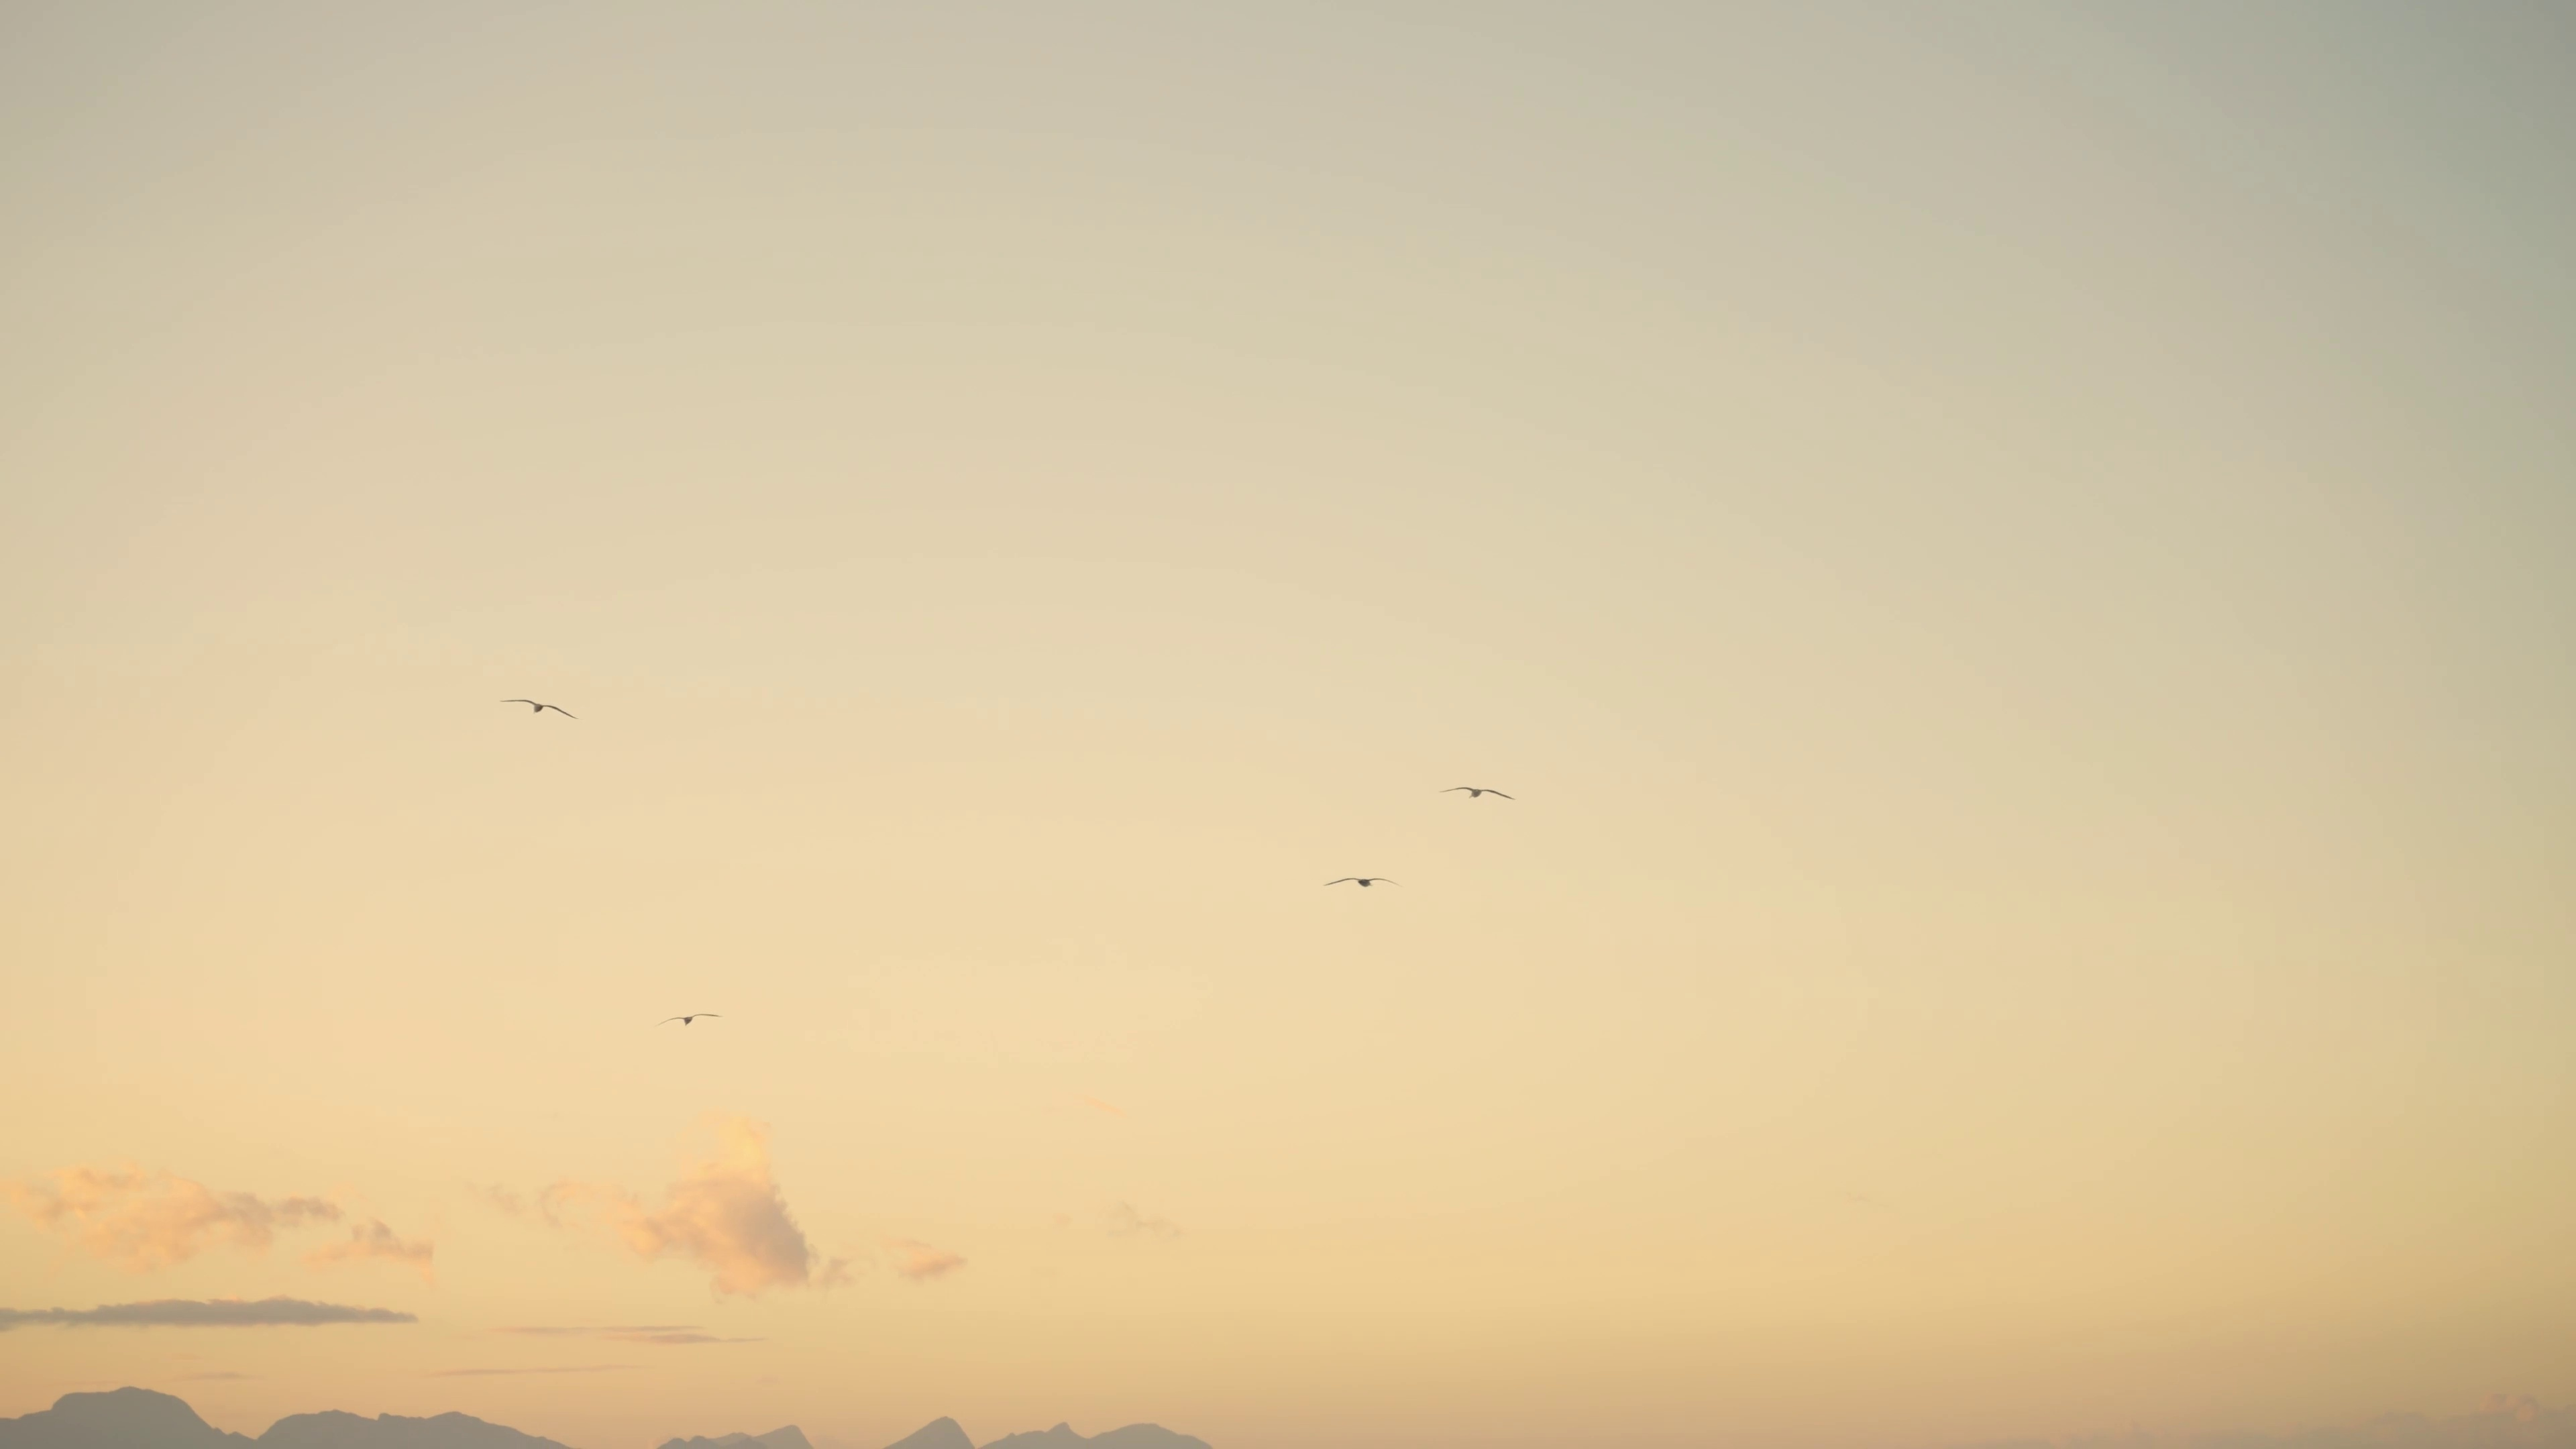bird: (499, 699, 579, 720), (1440, 786, 1514, 800), (658, 1014, 722, 1028), (1325, 878, 1399, 888)
